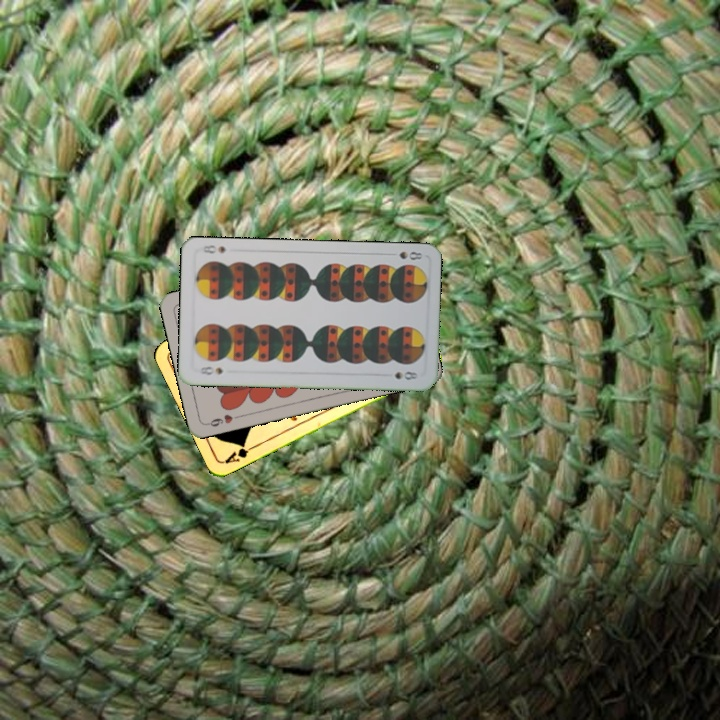GA: (221, 440, 259, 466)
H9: (203, 410, 243, 429)
S8: (385, 247, 425, 262), (195, 362, 225, 377)
